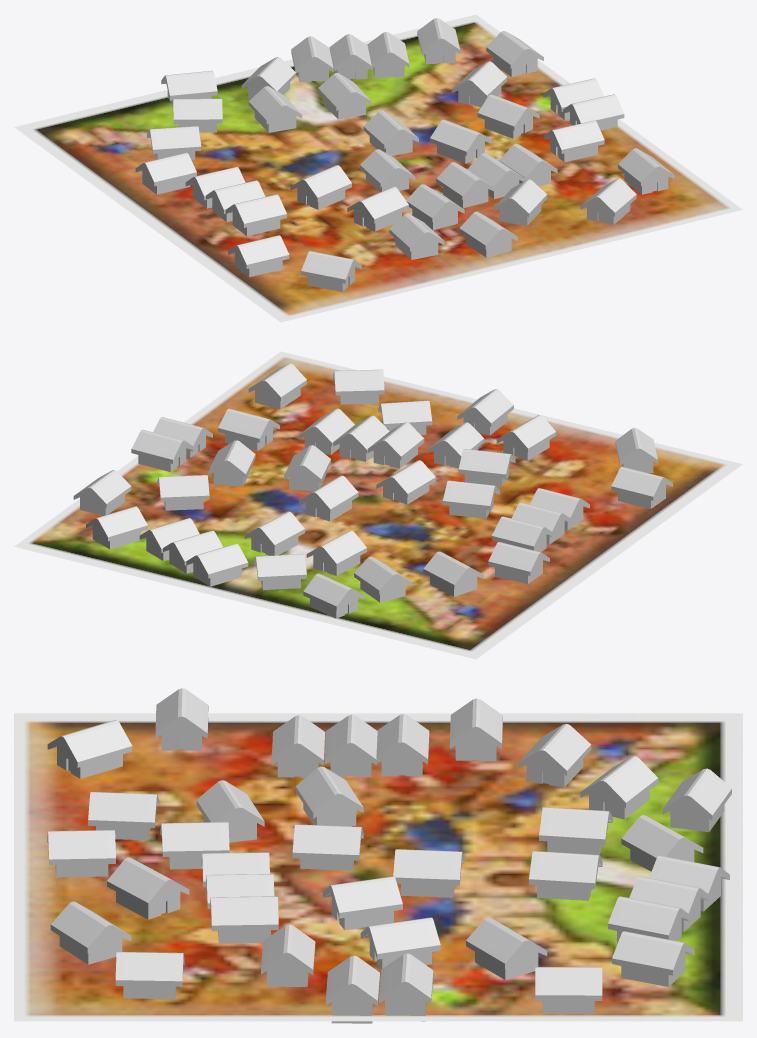
Rendered from tile19.fbx.
The picture shows the model from 3 angles, top to bottom: view 1: azimuth 30°, elevation 25°; view 2: azimuth 150°, elevation 25°; view 3: azimuth 270°, elevation 25°; orthographic projection. The views are drawn at different scales.
Parts seen in each view (by area): view 1: tile19; view 2: tile19; view 3: tile19.
Boxes of the visible parts, box(x1,y1,x2,y2) form: tile19: box(14, 14, 742, 322); tile19: box(14, 351, 742, 659); tile19: box(14, 688, 742, 1023).
Bounding box in the file's own units: 100 × 6.87 × 100.
